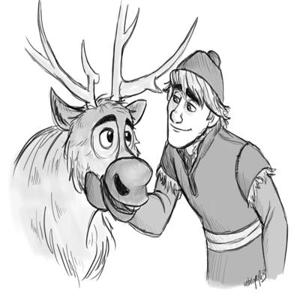sven: (19, 12, 158, 277)
